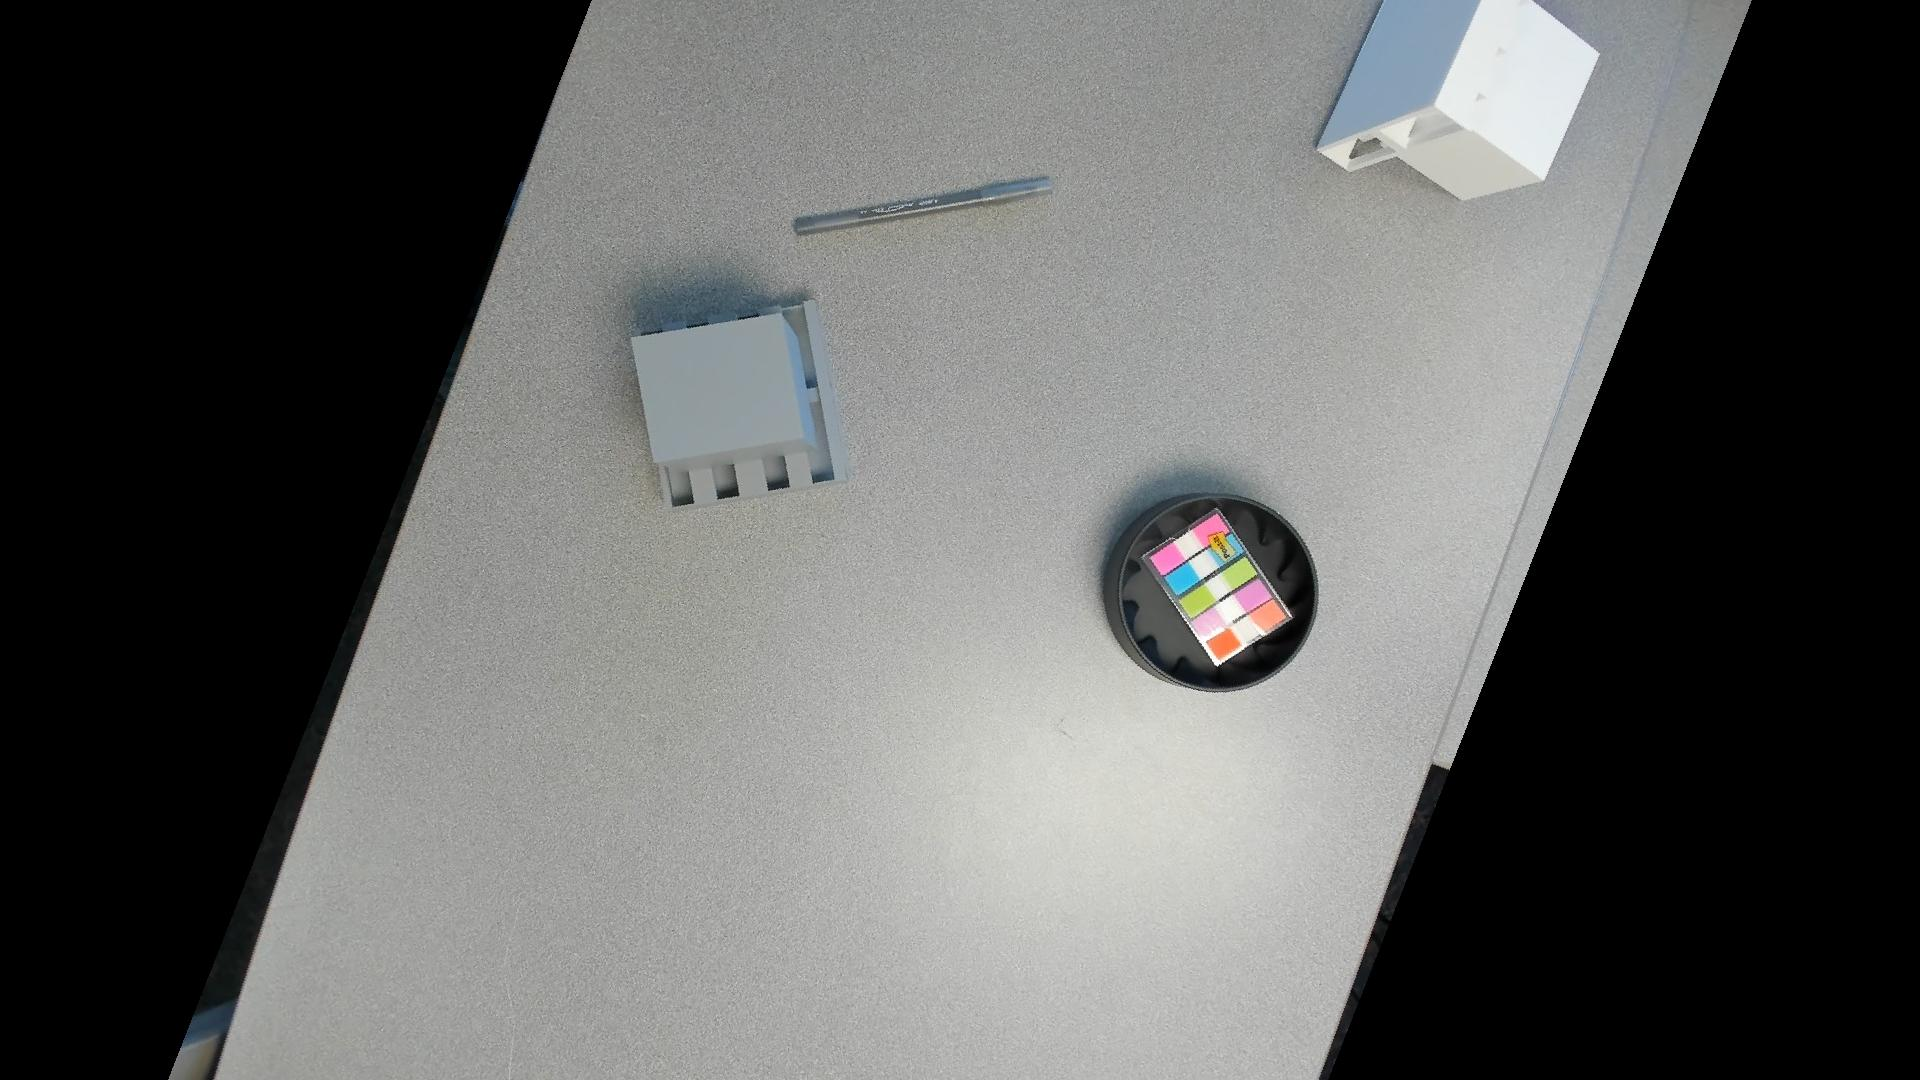grey pallet: (624, 285, 853, 520)
white pallet: (1308, 1, 1630, 208)
